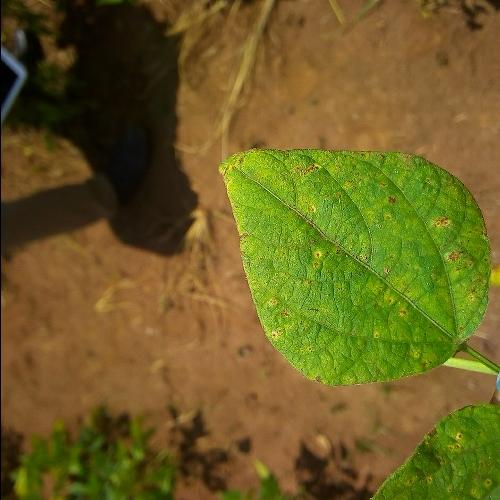hawar: (268, 245, 340, 341), (432, 196, 475, 286), (287, 159, 327, 186), (378, 184, 400, 222), (224, 152, 250, 181)
mozaik: (221, 150, 480, 342)
